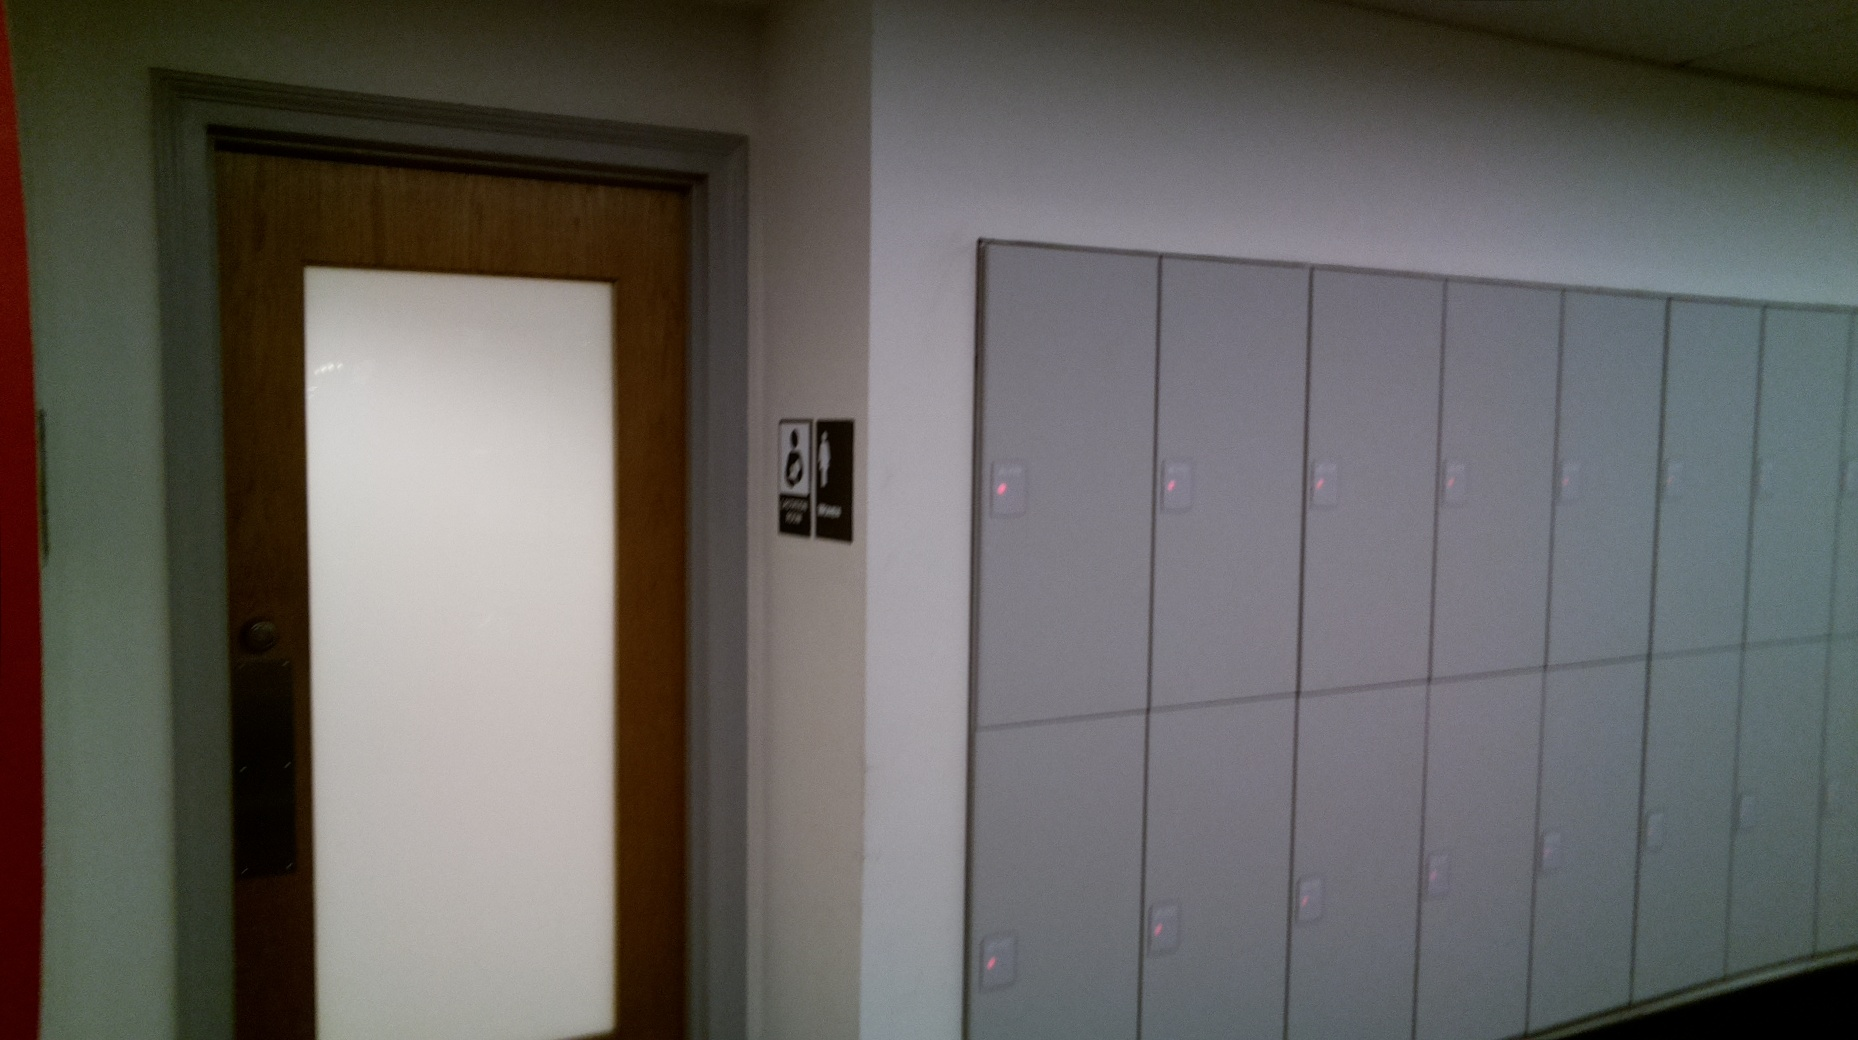bathroom sign: (812, 412, 861, 546)
